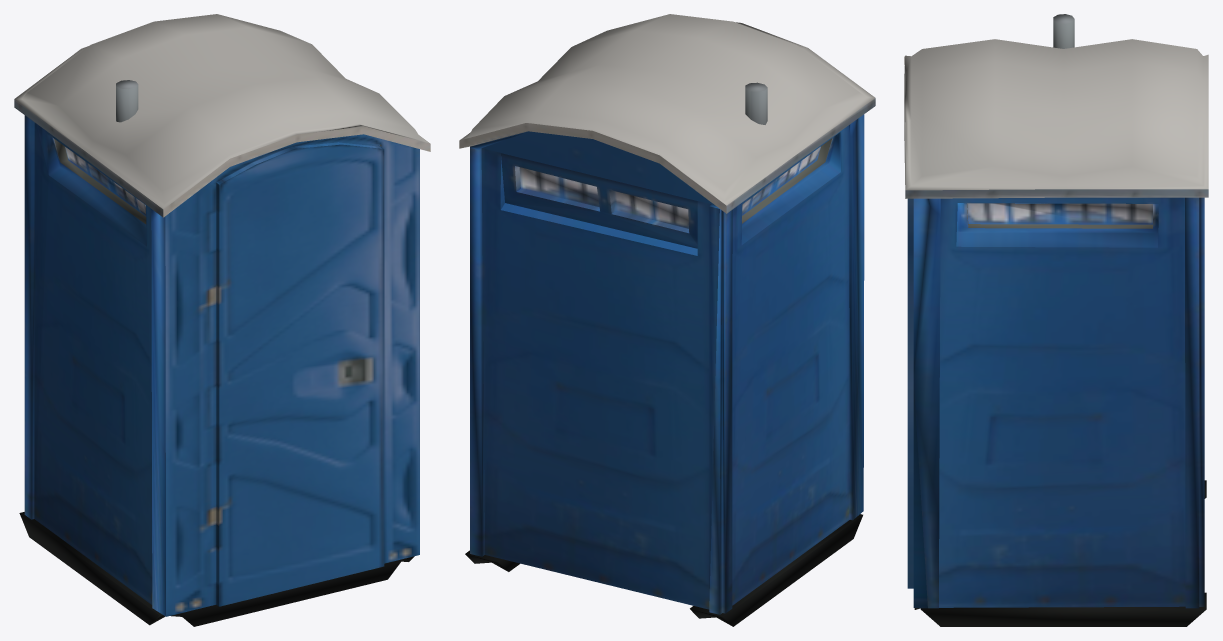
Rendered from portapotty.glb.
3 renders of one model, left to right at view 1: azimuth 30°, elevation 25°; view 2: azimuth 150°, elevation 25°; view 3: azimuth 270°, elevation 25°, orthographic. The views are drawn at different scales.
Parts seen in each view (by area): view 1: portapotty, door; view 2: portapotty; view 3: portapotty, door.
Part boxes in pixels (x1,y1,x2,y2): portapotty: [14, 14, 430, 626]; door: [216, 142, 384, 606]; portapotty: [459, 14, 875, 626]; portapotty: [904, 14, 1208, 626]; door: [907, 198, 913, 588].
Size of the model in its own units: 1.64 by 2.87 by 1.59.
2 materials, 2 textured.
